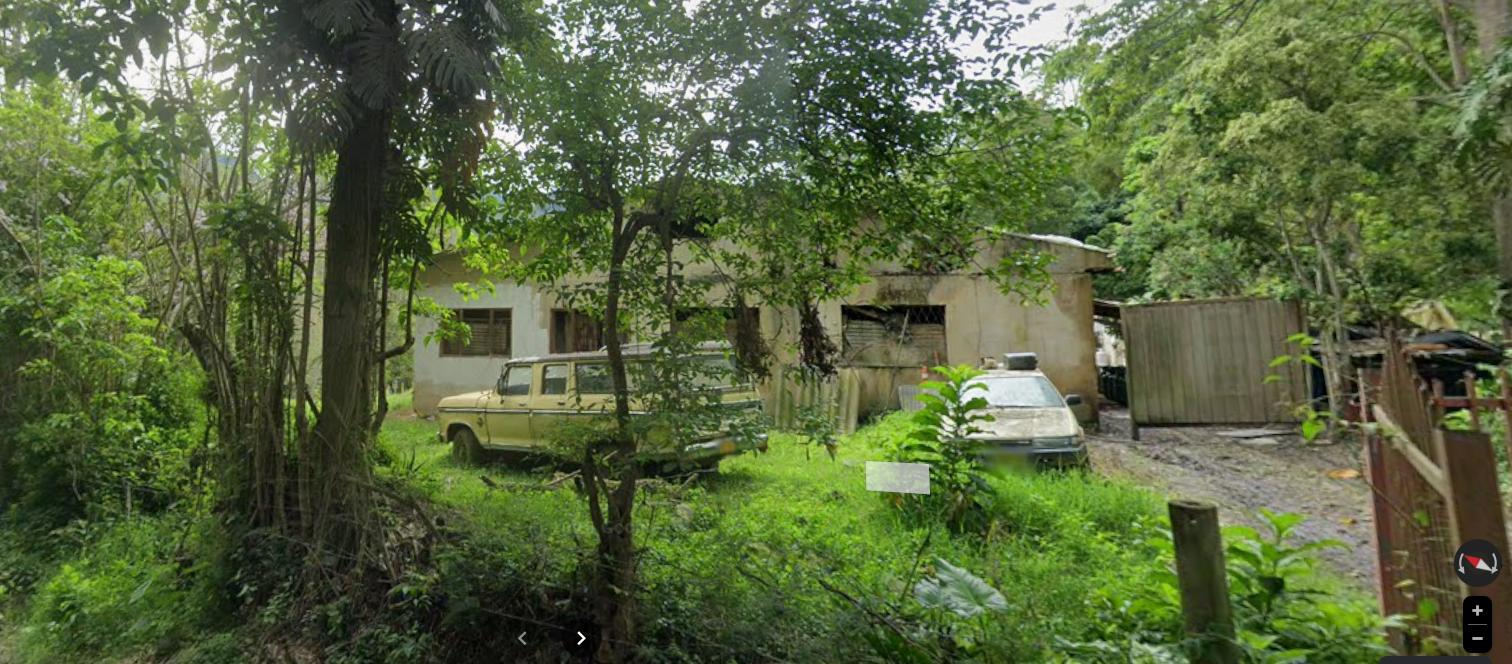casa: (673, 233, 1319, 433), (408, 252, 606, 416)
